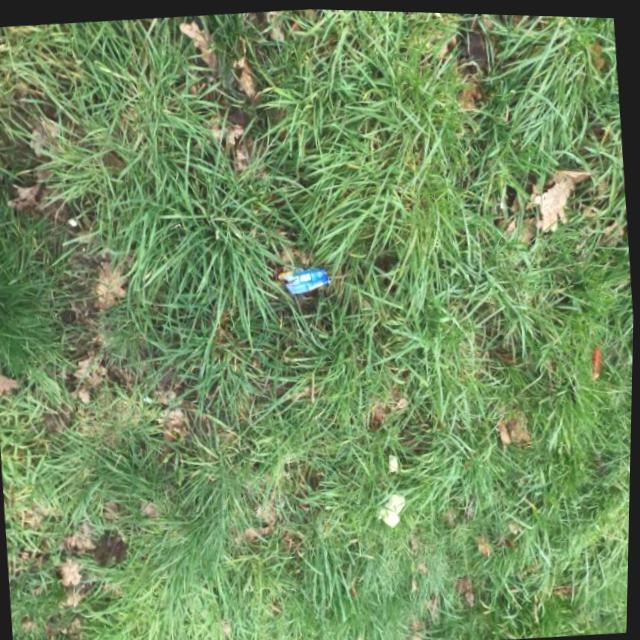Plastic: (274, 260, 334, 298)
